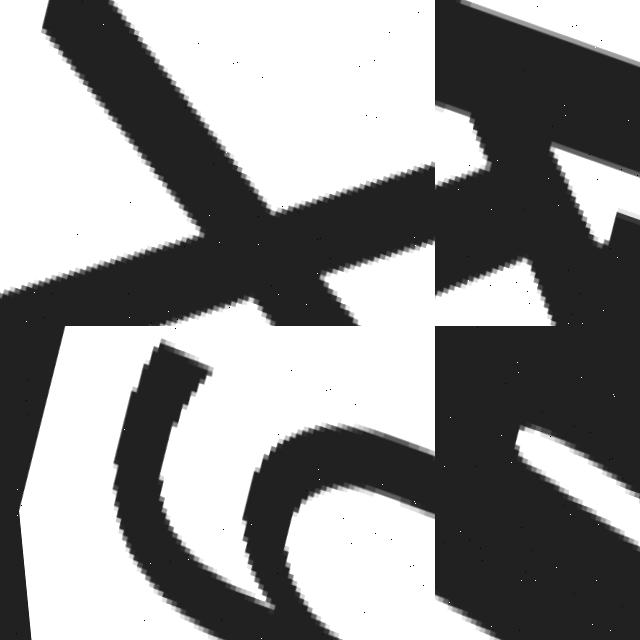G: (21, 326, 435, 640)
K: (435, 0, 640, 326)
U: (435, 326, 640, 640)
X: (0, 0, 435, 326)
